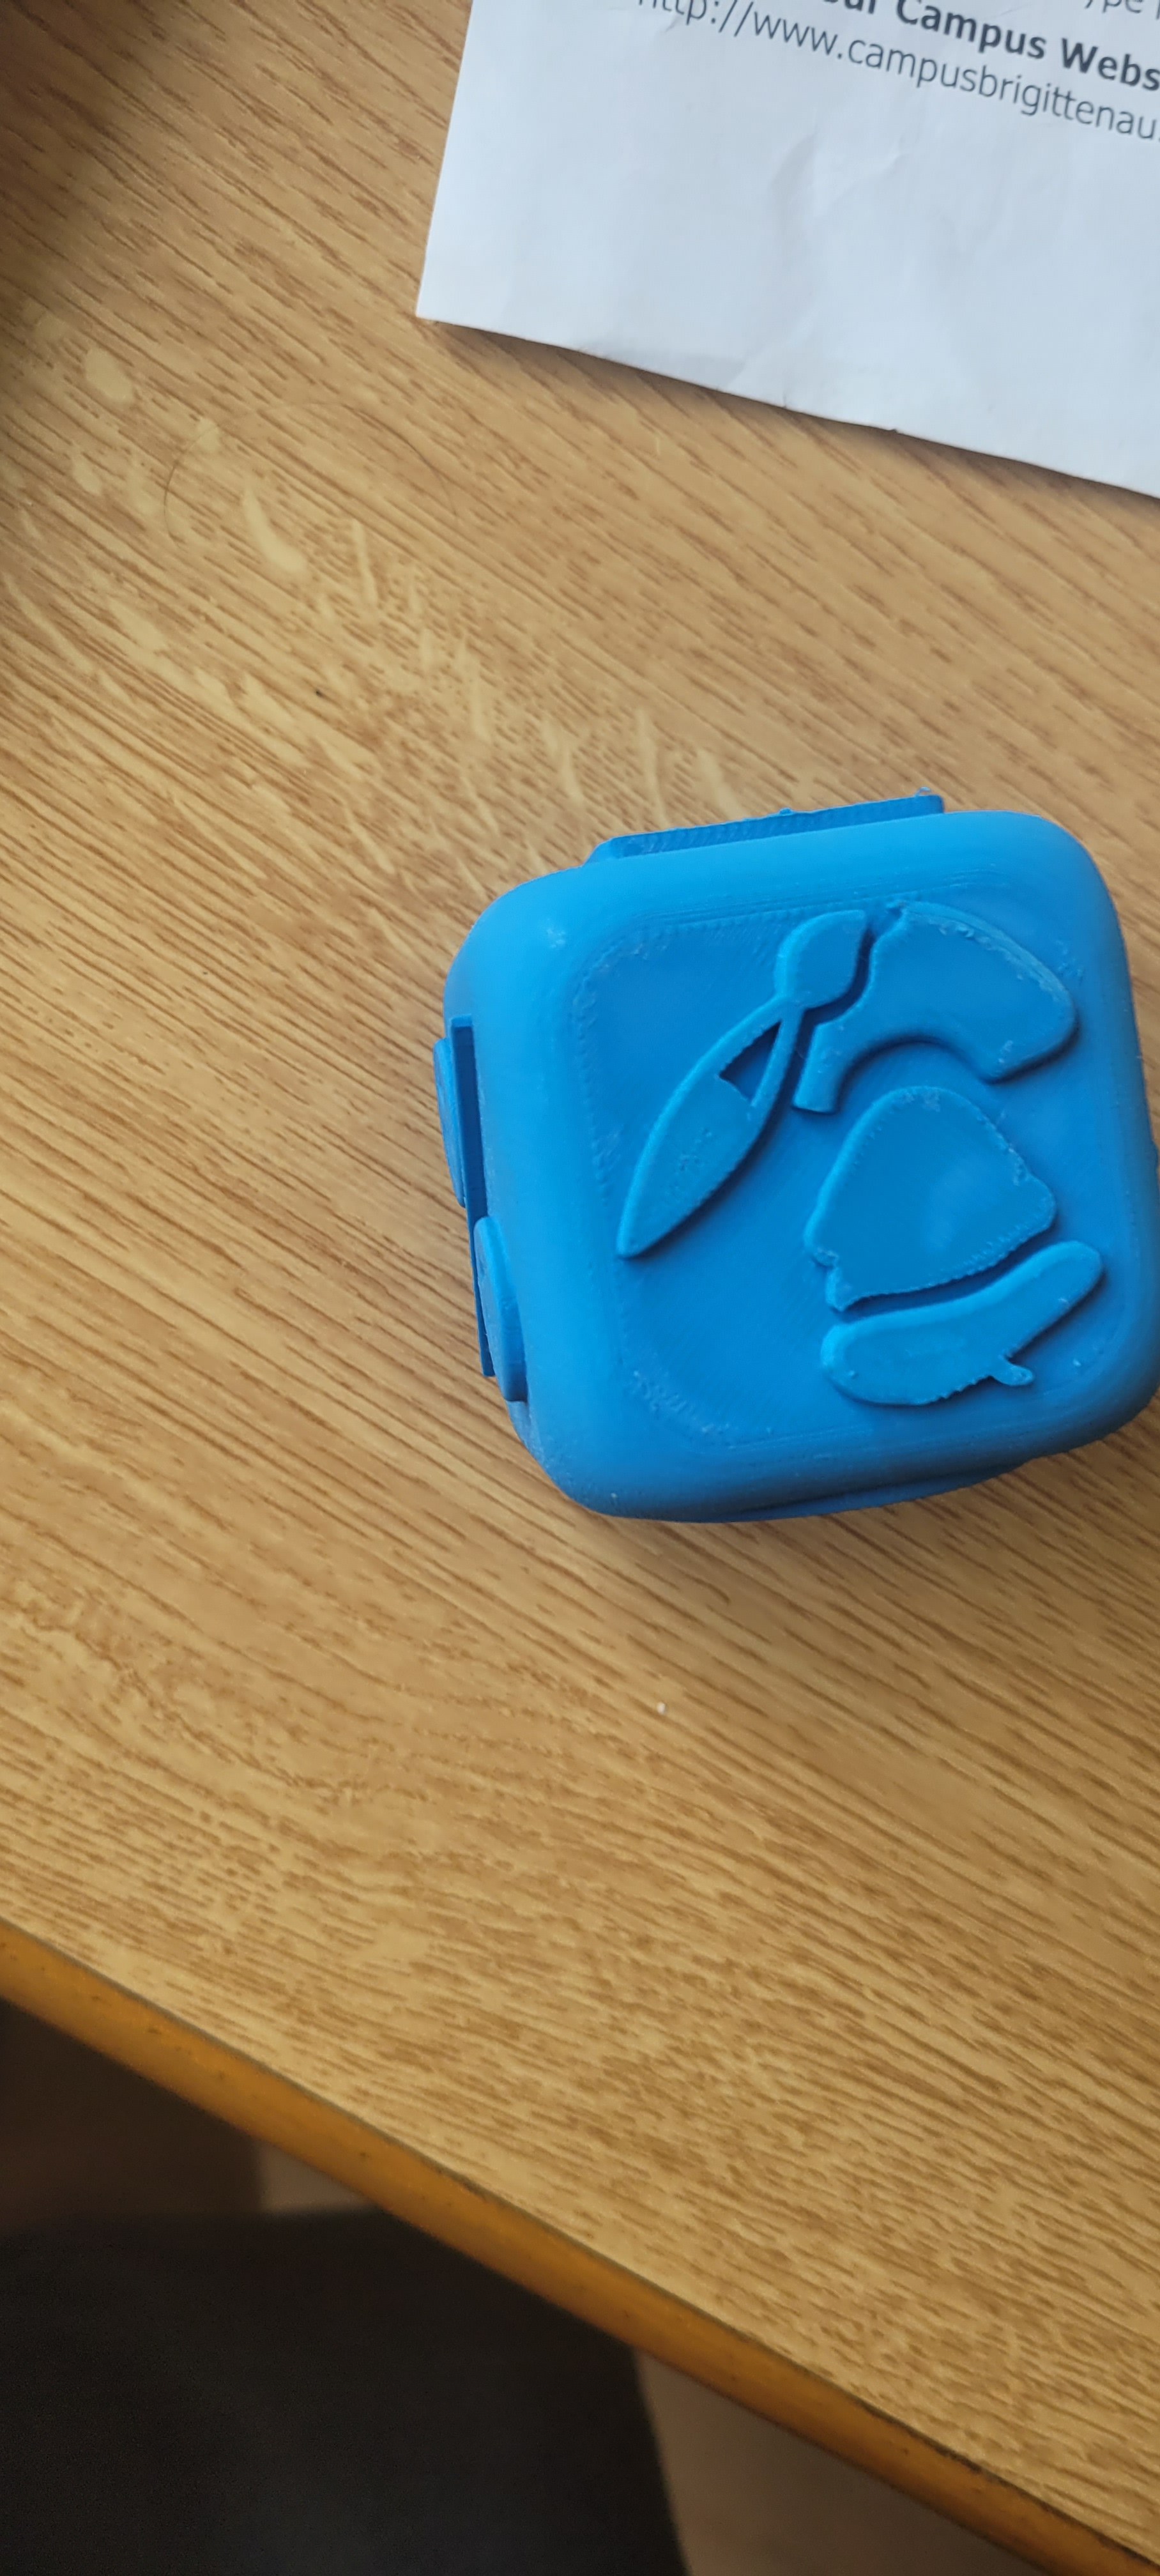Artist_Info: (403, 825, 1160, 1444)
